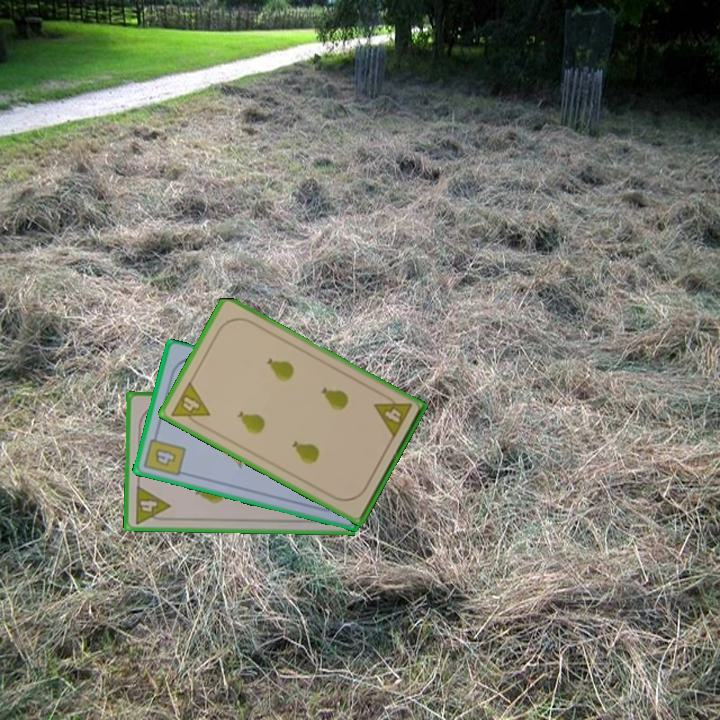4b: (141, 429, 188, 479)
4p: (167, 378, 213, 431), (370, 390, 415, 441), (131, 482, 173, 526)
